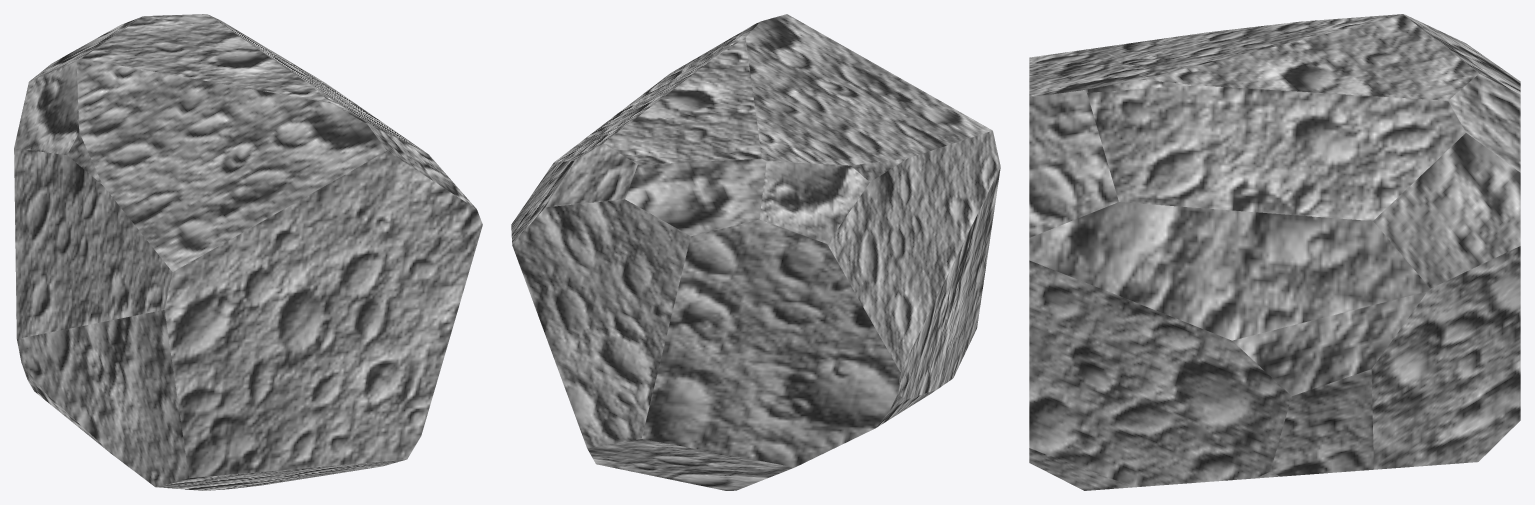
File: asteroid3.glb
The picture shows the model from 3 angles, left to right: view 1: azimuth 30°, elevation 25°; view 2: azimuth 150°, elevation 25°; view 3: azimuth 270°, elevation 25°; orthographic projection. The views are drawn at different scales.
Parts seen in each view (by area): view 1: Cylinder; view 2: Cylinder; view 3: Cylinder.
Part boxes in pixels (x1,y1,x2,y2): Cylinder: [14, 14, 482, 490]; Cylinder: [511, 14, 1000, 490]; Cylinder: [1029, 14, 1520, 490].
Size of the model in its own units: 1.93 by 1.94 by 2.
Materials: 1 (1 with a texture image).
